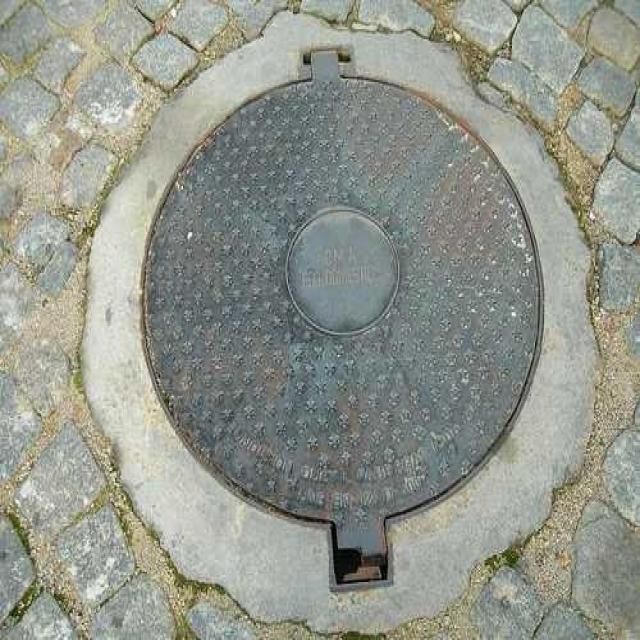manhole: (145, 78, 541, 560)
